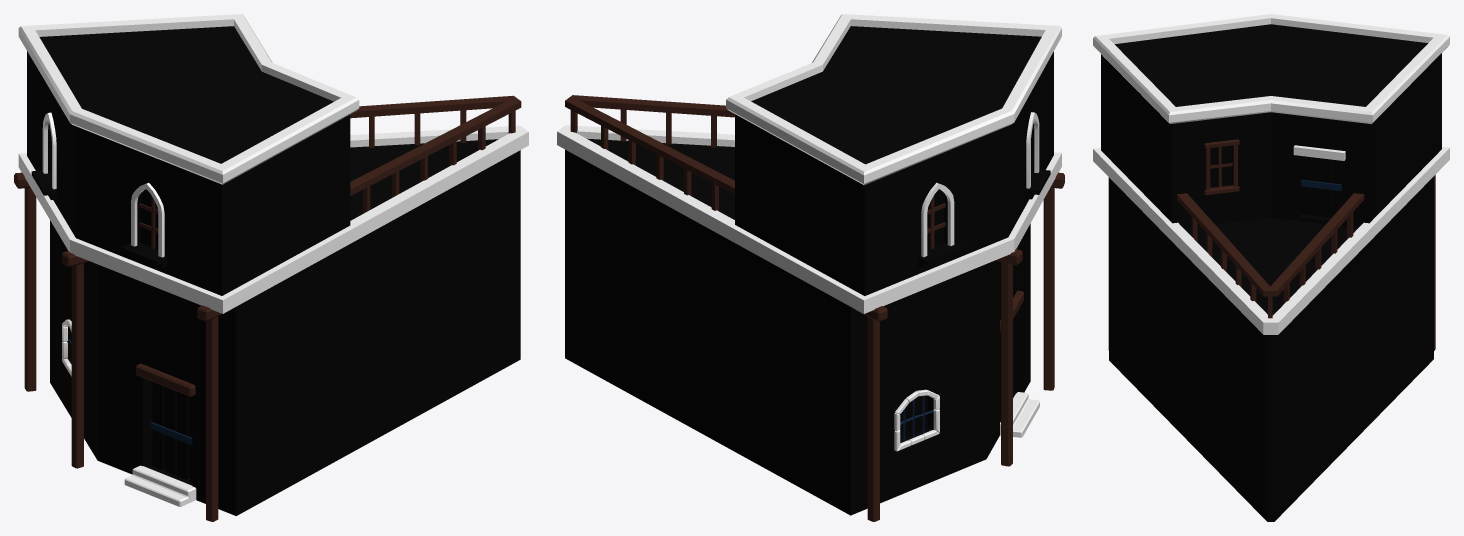
The model's file is civilian_house_30_c.FBX.
The picture shows the model from 3 angles, left to right: view 1: azimuth 30°, elevation 25°; view 2: azimuth 150°, elevation 25°; view 3: azimuth 270°, elevation 25°; orthographic projection. The views are drawn at different scales.
Parts seen in each view (by area): view 1: civilian_house_30_c; view 2: civilian_house_30_c; view 3: civilian_house_30_c.
Part boxes in pixels (x1,y1,x2,y2): civilian_house_30_c: (14, 14, 528, 521); civilian_house_30_c: (557, 14, 1064, 521); civilian_house_30_c: (1093, 14, 1449, 521).
Size of the model in its own units: 1268 by 935 by 960.
